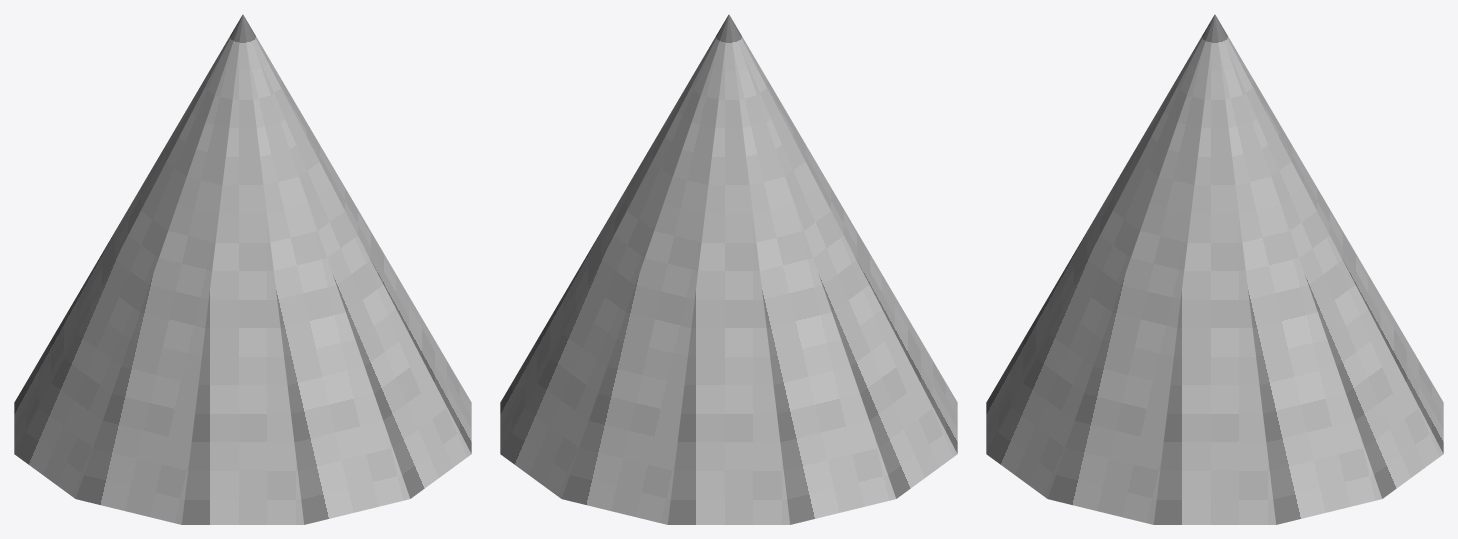
3 renders of one model, left to right at view 1: azimuth 30°, elevation 25°; view 2: azimuth 150°, elevation 25°; view 3: azimuth 270°, elevation 25°, orthographic.
Visible parts, largest first — view 1: cone; view 2: cone; view 3: cone.
Boxes of the visible parts, x1,y1,x2,y2 form: cone: [14, 14, 471, 524]; cone: [500, 14, 957, 524]; cone: [986, 14, 1443, 524].
Size of the model in its own units: 1 by 1 by 1.
Materials: 2 (1 with a texture image).
